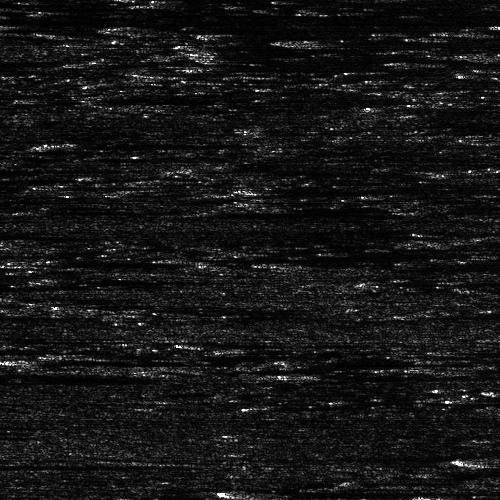object: (0, 351, 98, 366), (379, 491, 484, 500), (195, 489, 278, 498), (439, 455, 500, 466), (211, 184, 284, 193), (411, 347, 484, 356), (16, 140, 109, 147), (401, 366, 494, 373), (260, 38, 353, 45), (0, 257, 66, 266), (309, 371, 392, 378), (20, 273, 73, 282), (0, 334, 8, 343)
shadow: (20, 351, 203, 366), (237, 489, 500, 498), (248, 184, 500, 193), (24, 257, 151, 266), (47, 273, 173, 282), (0, 461, 155, 468), (351, 371, 500, 378), (0, 334, 108, 343), (63, 140, 199, 147), (432, 491, 500, 500), (307, 38, 381, 45), (447, 347, 500, 356), (447, 366, 500, 373)
